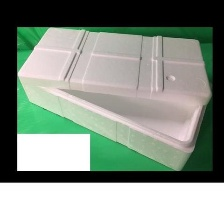foam_box: (16, 23, 216, 171)
